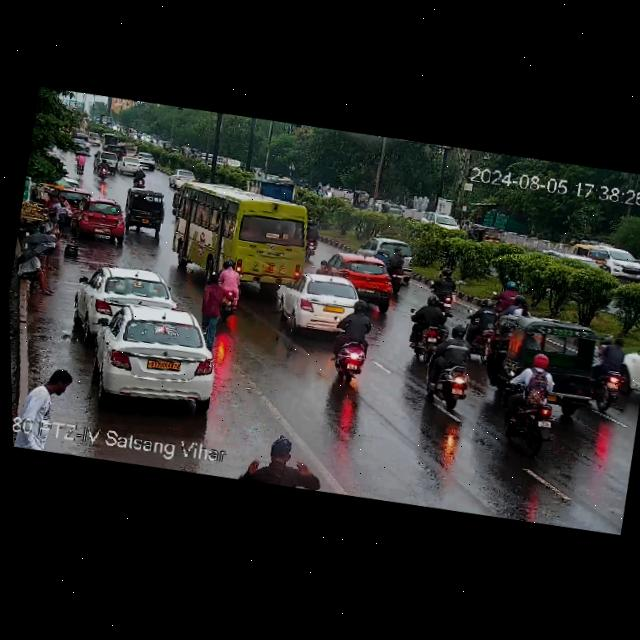bus: (161, 169, 323, 293)
car: (84, 294, 223, 411), (71, 258, 178, 334), (498, 309, 604, 385), (272, 264, 367, 339), (317, 247, 400, 299), (69, 196, 129, 245), (360, 233, 416, 280), (120, 187, 170, 235), (606, 242, 640, 287), (568, 237, 610, 272), (467, 222, 510, 248), (623, 341, 640, 393), (117, 154, 148, 176), (134, 151, 159, 168), (169, 165, 190, 184), (95, 151, 119, 167), (106, 144, 126, 158), (104, 148, 121, 161)
motorcycle: (495, 348, 569, 446), (421, 321, 479, 410), (330, 295, 377, 387), (400, 291, 455, 366), (592, 333, 634, 410), (462, 299, 502, 363), (213, 256, 247, 322), (484, 275, 531, 315), (422, 271, 461, 310), (386, 246, 413, 292), (302, 216, 321, 260), (127, 164, 152, 189), (94, 158, 113, 179), (372, 244, 391, 265), (71, 151, 88, 171)
person: (13, 354, 82, 428), (248, 433, 318, 492), (12, 247, 64, 297), (194, 276, 229, 344), (38, 212, 63, 267), (40, 190, 70, 221)
truck: (249, 169, 297, 205)
